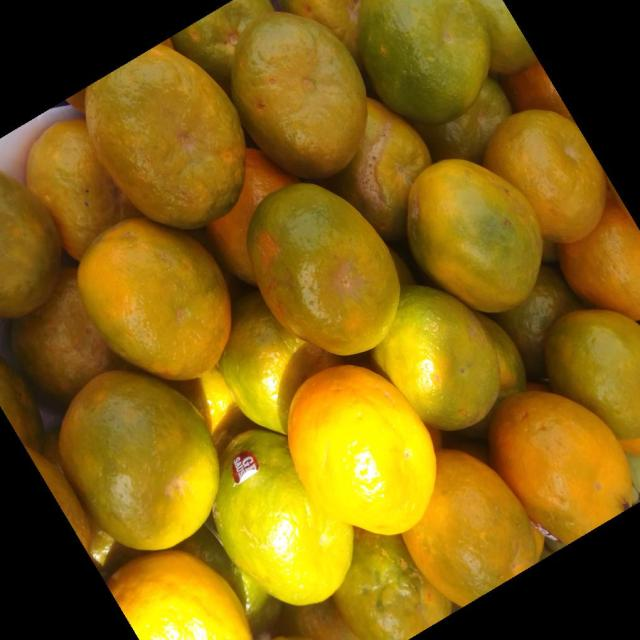fresh orange: (1, 0, 638, 637), (222, 175, 426, 366), (349, 432, 577, 602), (254, 368, 463, 539), (85, 46, 244, 226), (476, 378, 640, 552), (59, 370, 217, 550), (356, 280, 516, 443), (76, 219, 229, 379), (212, 431, 350, 602), (231, 11, 366, 176), (408, 160, 542, 311), (358, 0, 487, 124), (484, 110, 606, 241), (25, 120, 136, 262), (219, 296, 331, 436), (321, 99, 432, 239), (12, 273, 121, 402), (1, 165, 62, 316), (170, 0, 277, 84), (411, 78, 514, 164)
